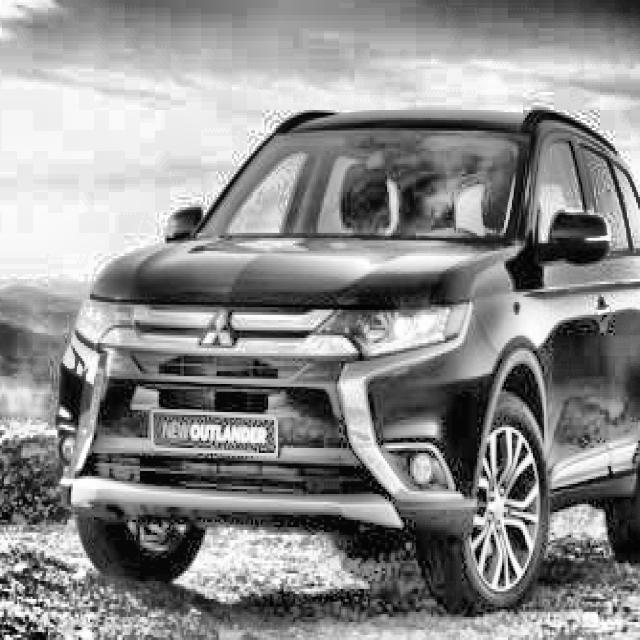light_vehicle: (53, 107, 640, 616)
